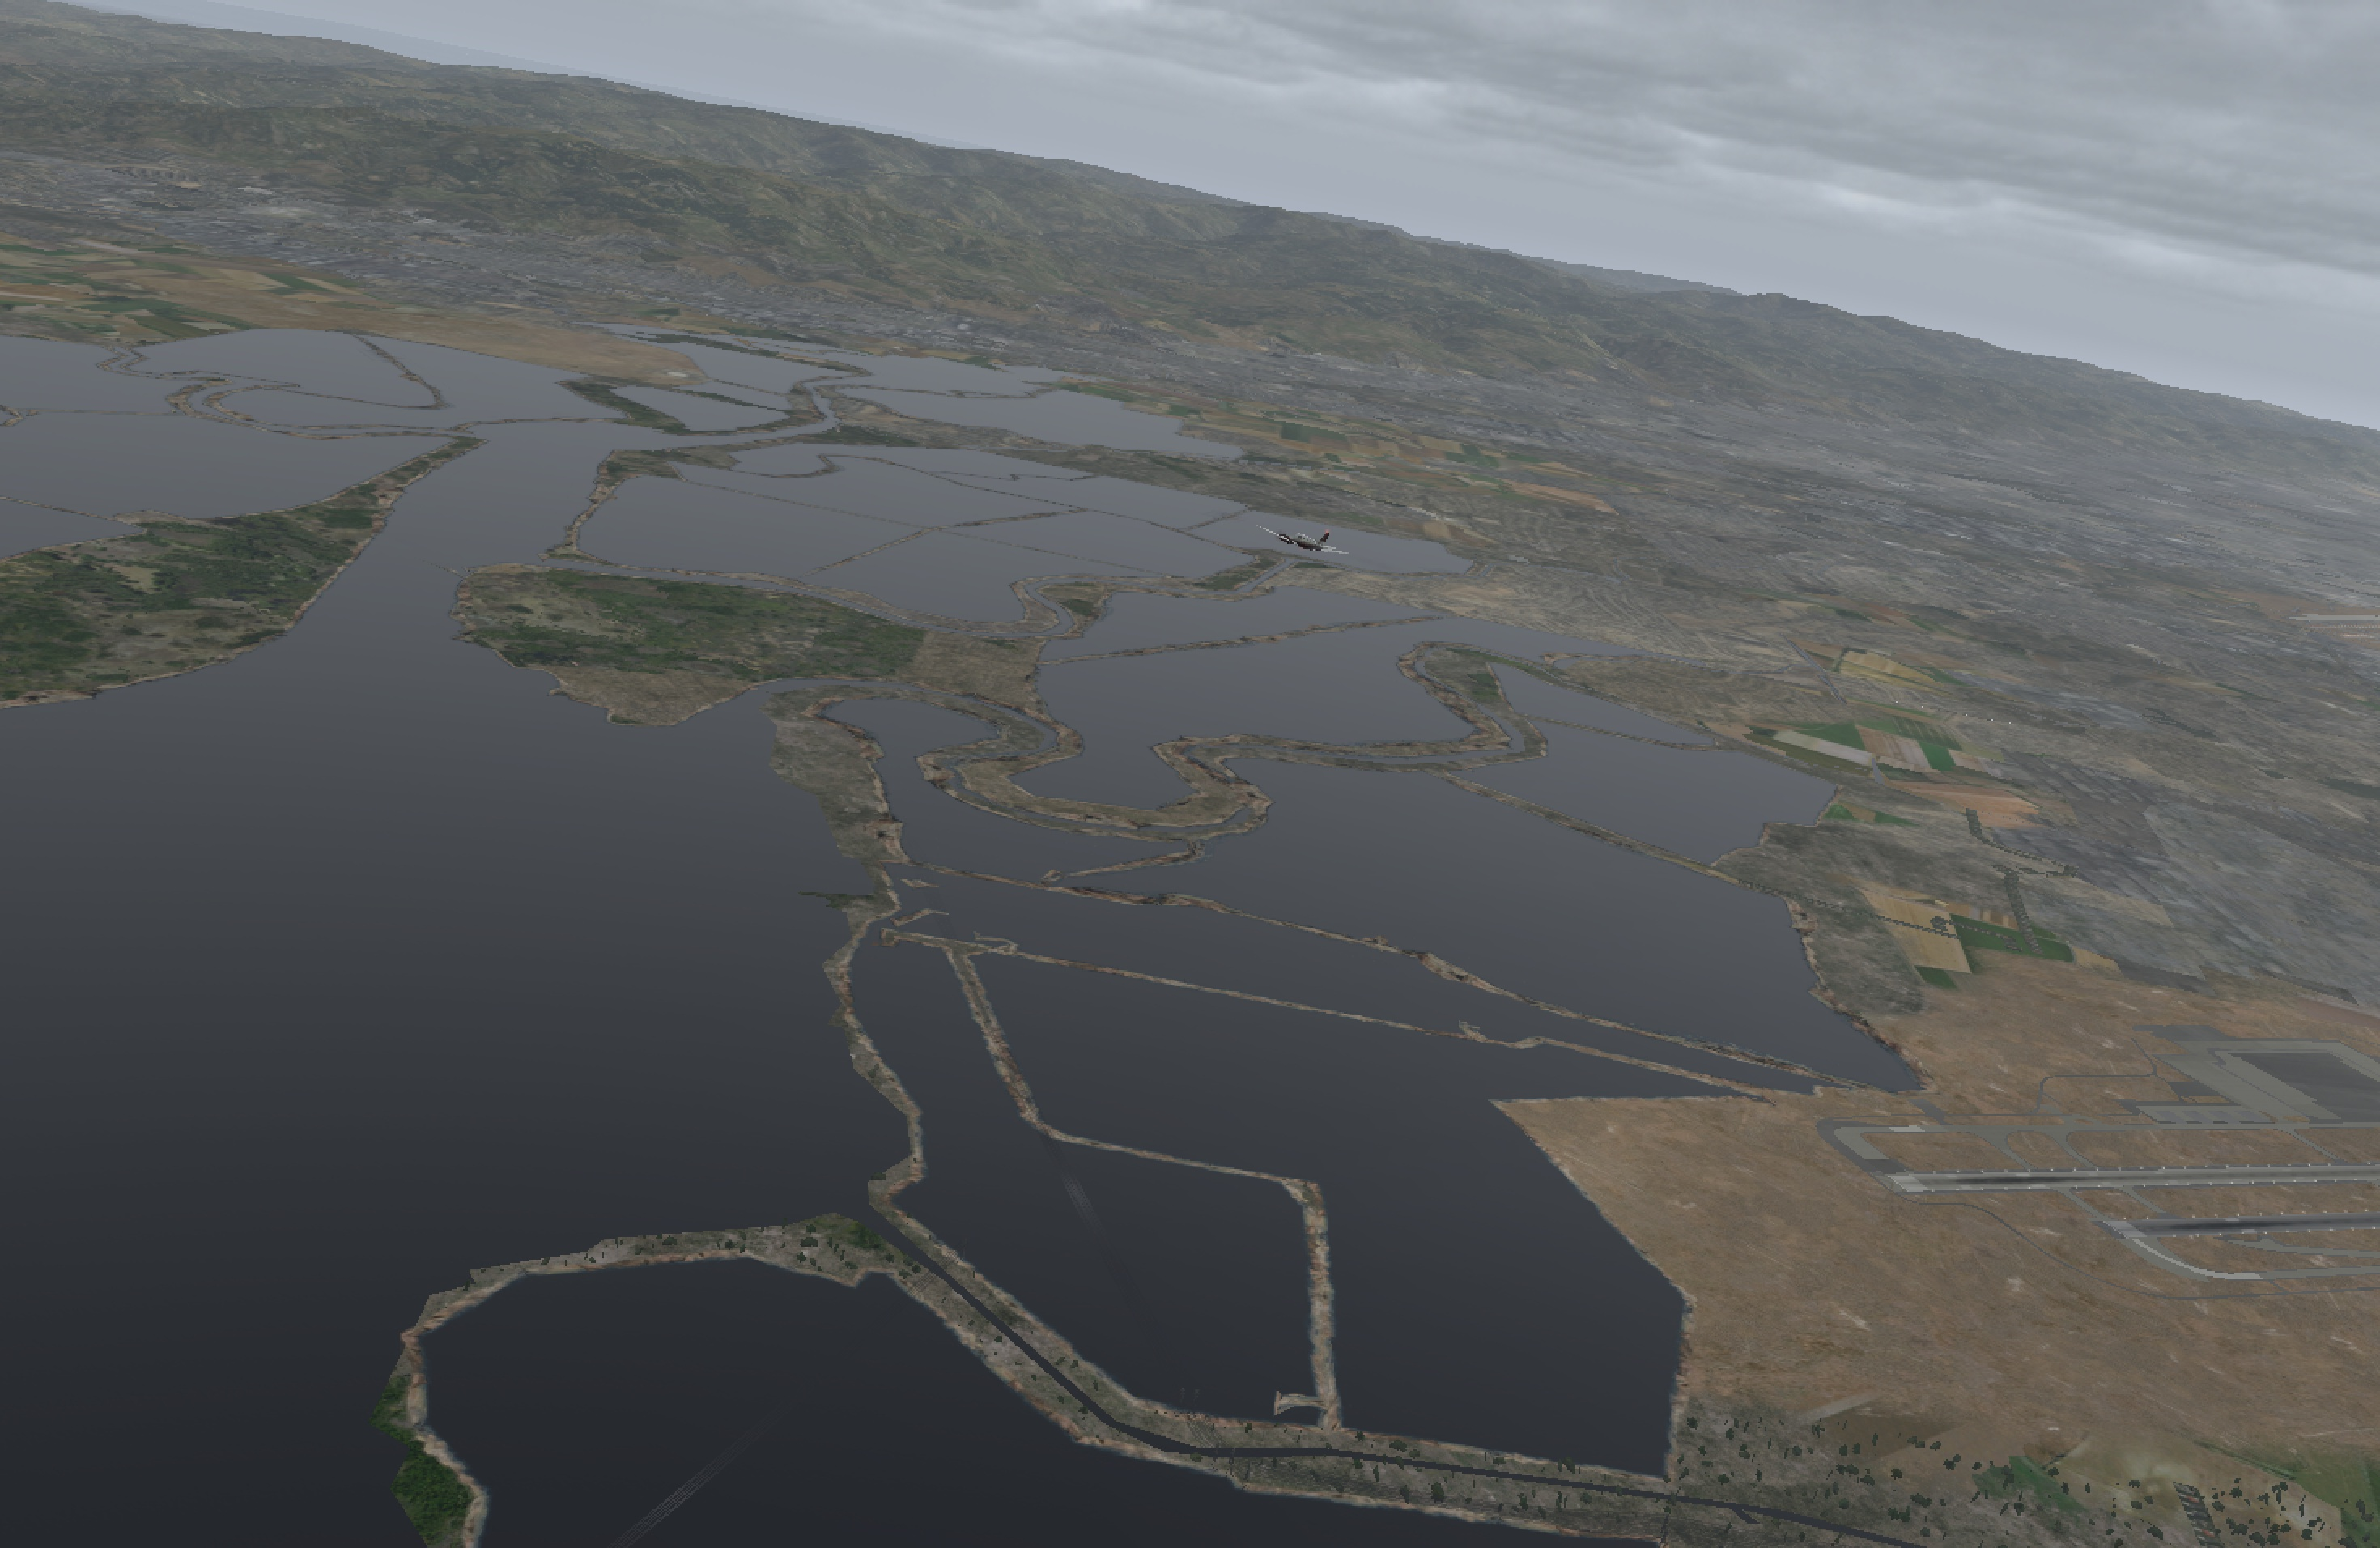aircraft: (1244, 524, 1355, 566)
